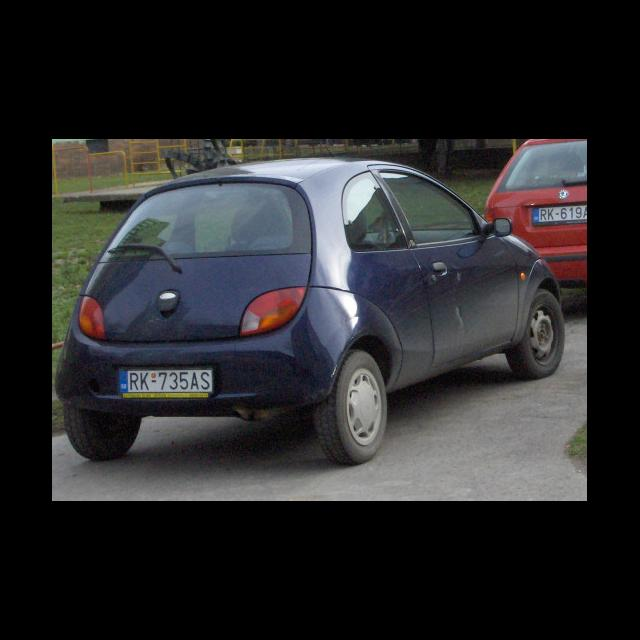Plate: (118, 366, 215, 396)
